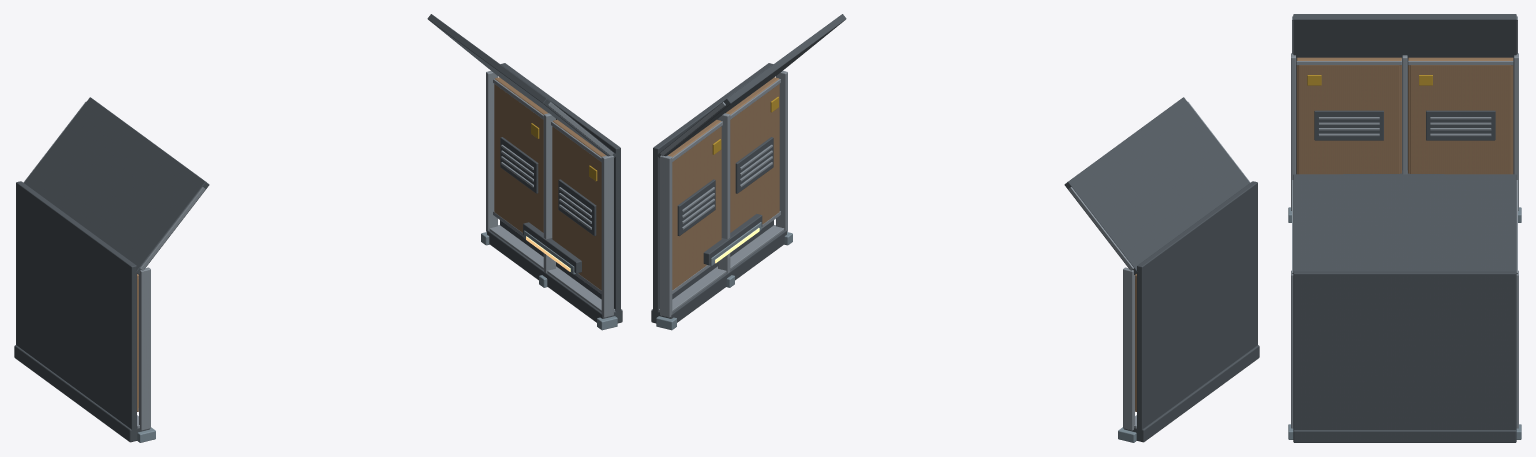
Rendered from NA_GalleryWallBay_S_G02_LOD0.fbx.
3 renders of one model, left to right at view 1: azimuth 30°, elevation 25°; view 2: azimuth 150°, elevation 25°; view 3: azimuth 270°, elevation 25°, orthographic. The views are drawn at different scales.
Visible parts, largest first — view 1: NA_GalleryWallBay_S_G02_LOD0; view 2: NA_GalleryWallBay_S_G02_LOD0; view 3: NA_GalleryWallBay_S_G02_LOD0.
Boxes of the visible parts, bbox=[...] form: NA_GalleryWallBay_S_G02_LOD0: bbox=[14, 14, 622, 442]; NA_GalleryWallBay_S_G02_LOD0: bbox=[651, 14, 1259, 442]; NA_GalleryWallBay_S_G02_LOD0: bbox=[1288, 14, 1521, 442].
Size of the model in its own units: 30.21 by 14.22 by 12.86.
